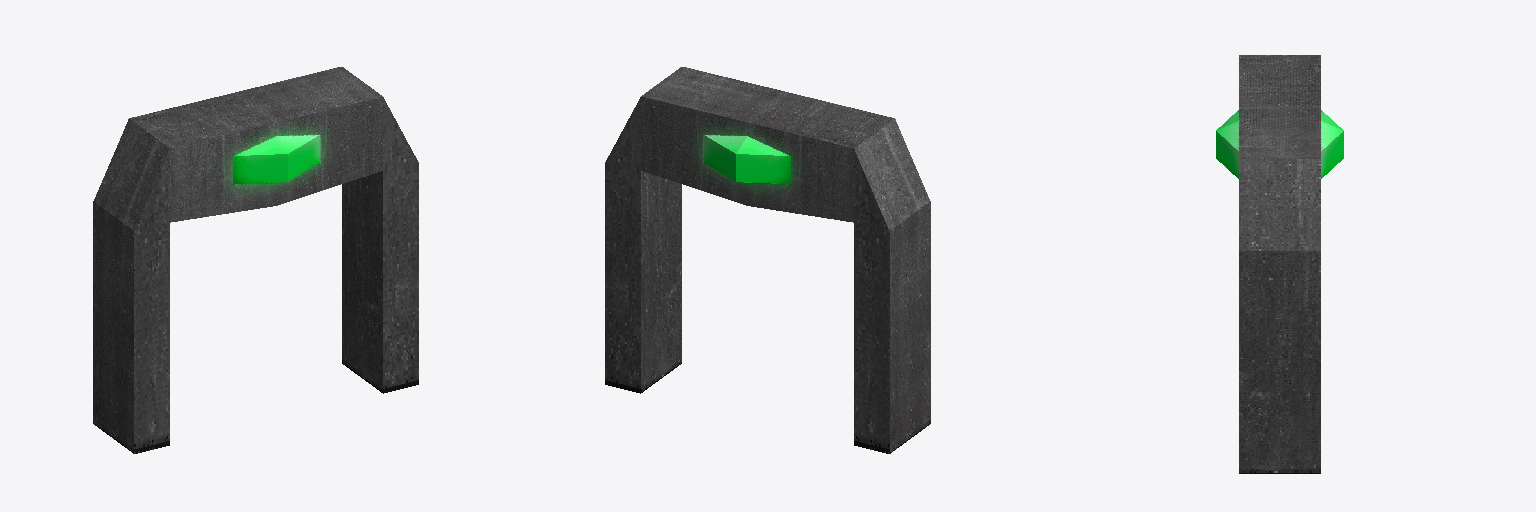
3 renders of one model, left to right at view 1: azimuth 30°, elevation 25°; view 2: azimuth 150°, elevation 25°; view 3: azimuth 270°, elevation 25°, orthographic.
Parts seen in each view (by area): view 1: cuboid.001, cuboid.002, cuboid, sphere.001; view 2: cuboid.001, cuboid.002, cuboid, sphere; view 3: cuboid, cuboid.002, sphere, sphere.001.
Boxes of the visible parts, <box> form: cuboid.001: <box>93,119,169,453</box>; cuboid.002: <box>129,67,382,222</box>; cuboid: <box>342,97,418,393</box>; sphere.001: <box>233,135,319,183</box>; cuboid.001: <box>854,119,930,453</box>; cuboid.002: <box>641,67,894,222</box>; cuboid: <box>605,97,681,393</box>; sphere: <box>704,135,790,183</box>; cuboid: <box>1239,159,1320,473</box>; cuboid.002: <box>1239,55,1320,158</box>; sphere: <box>1321,110,1343,178</box>; sphere.001: <box>1216,110,1238,178</box>.
Size of the model in its own units: 1 by 1 by 0.3897.
3 materials, 2 textured.